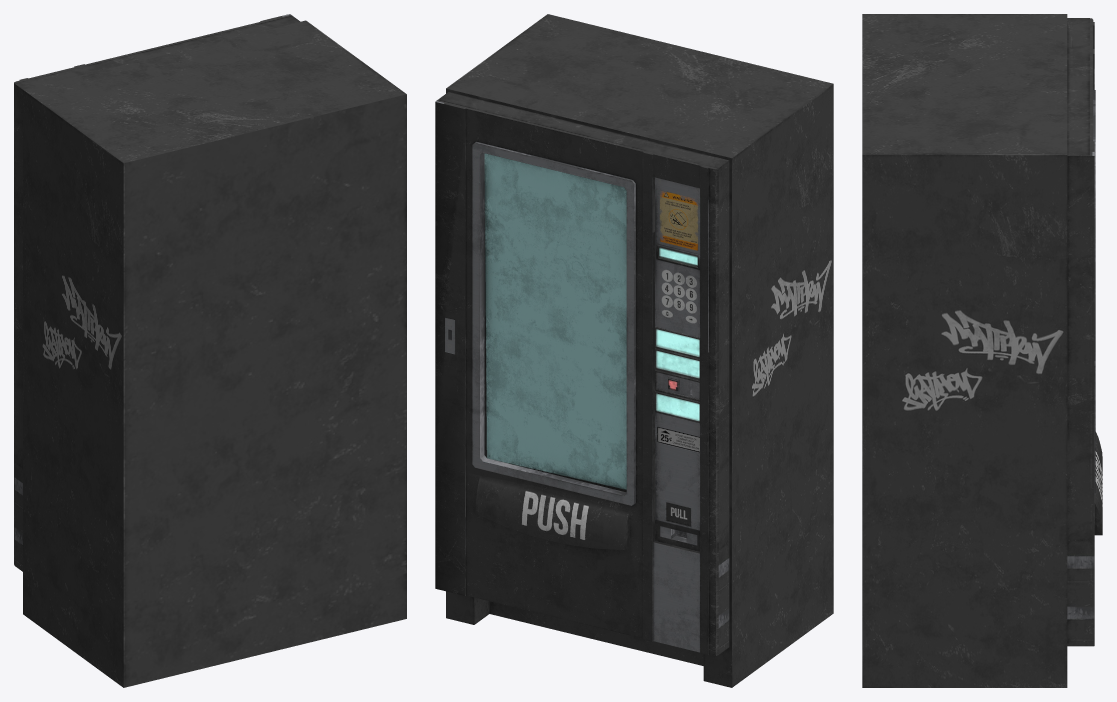
The model's file is ATMMM.glb.
The picture shows the model from 3 angles, left to right: view 1: azimuth 30°, elevation 25°; view 2: azimuth 150°, elevation 25°; view 3: azimuth 270°, elevation 25°; orthographic projection.
Parts seen in each view (by area): view 1: sm_Vendingmachine_01_01; view 2: sm_Vendingmachine_01_01; view 3: sm_Vendingmachine_01_01.
Boxes of the visible parts, <box> form: sm_Vendingmachine_01_01: <box>14,14,406,687</box>; sm_Vendingmachine_01_01: <box>435,14,833,687</box>; sm_Vendingmachine_01_01: <box>862,14,1102,687</box>.
Size of the model in its own units: 1.13 by 2 by 0.8172.
1 material, 1 textured.
